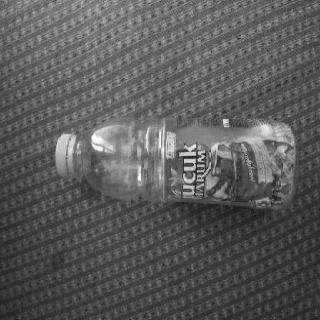plastic_bottles: (38, 110, 298, 216)
